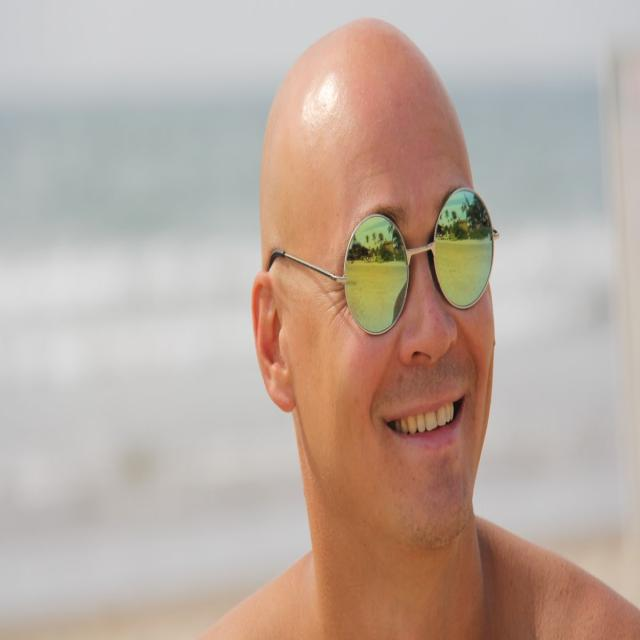no_helmet: (242, 13, 504, 255)
